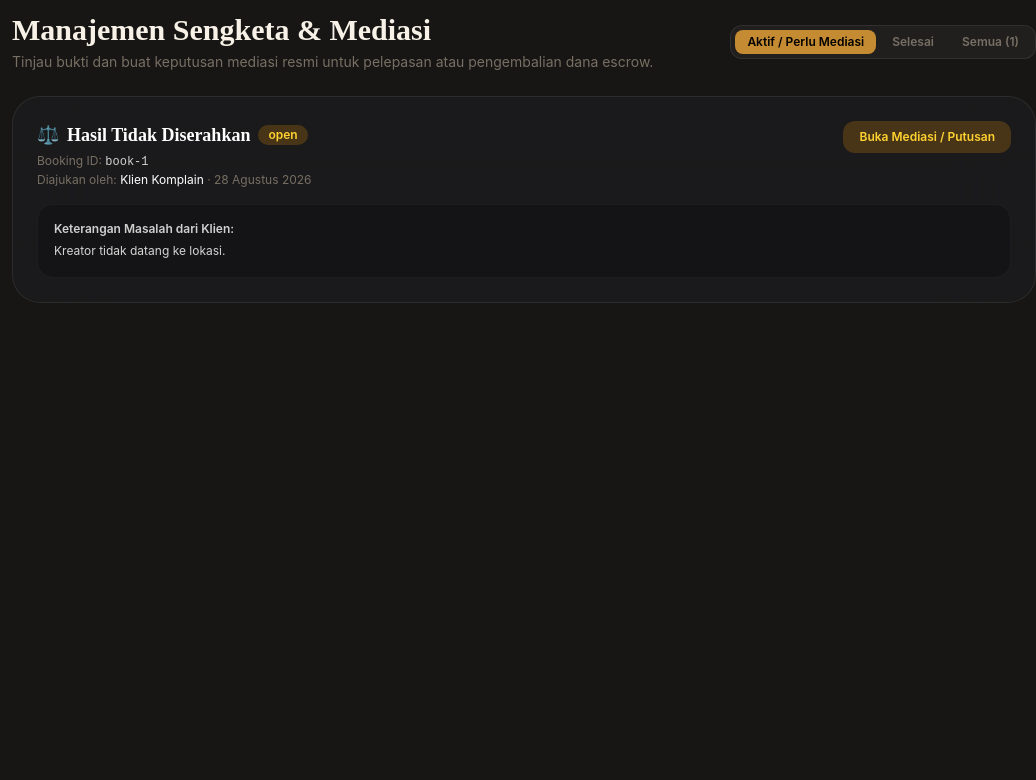
Test case: AdminDisputesPage › renders disputes and allows admin to resolve dispute
Expected: the heading "Hasil Tidak Diserahkan" is shown, [67,121,250,149]
Click the button "Buka Mediasi / Putusan". click: (927, 137)
box: [844,121,1011,153]
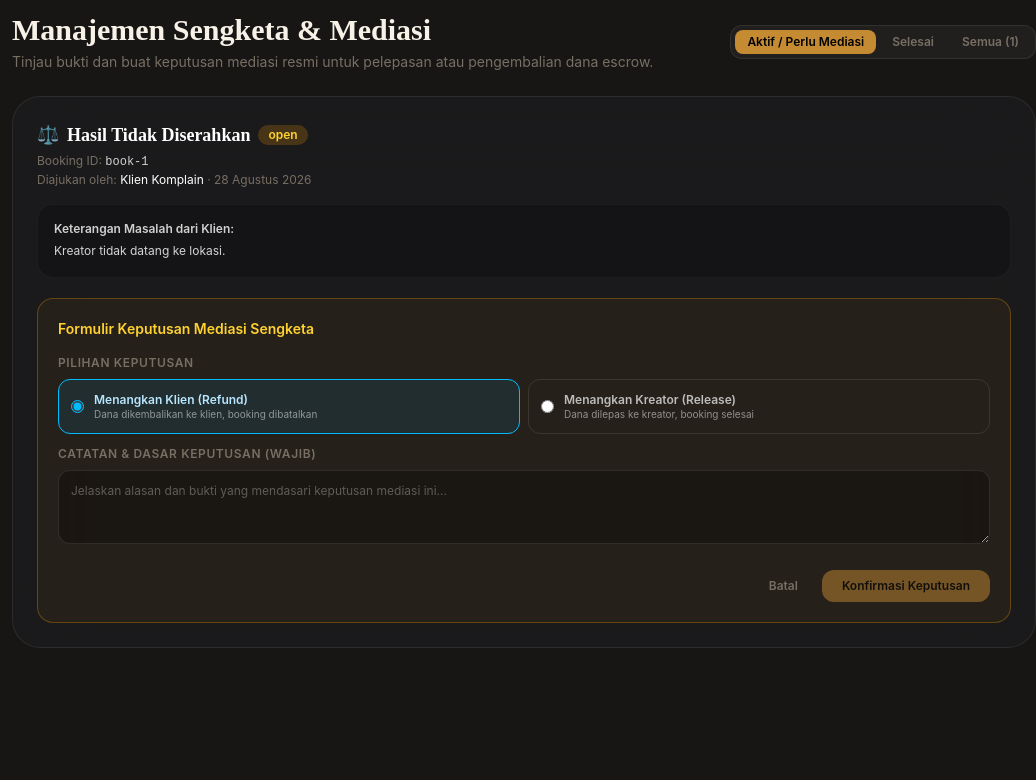
Replace the text in the text box with placeholder "Jelaskan alasan dan bukti" with "Refund disetujui karena kreator terbukti berhalangan.". click: (524, 507)
box: [58,470,990,544]
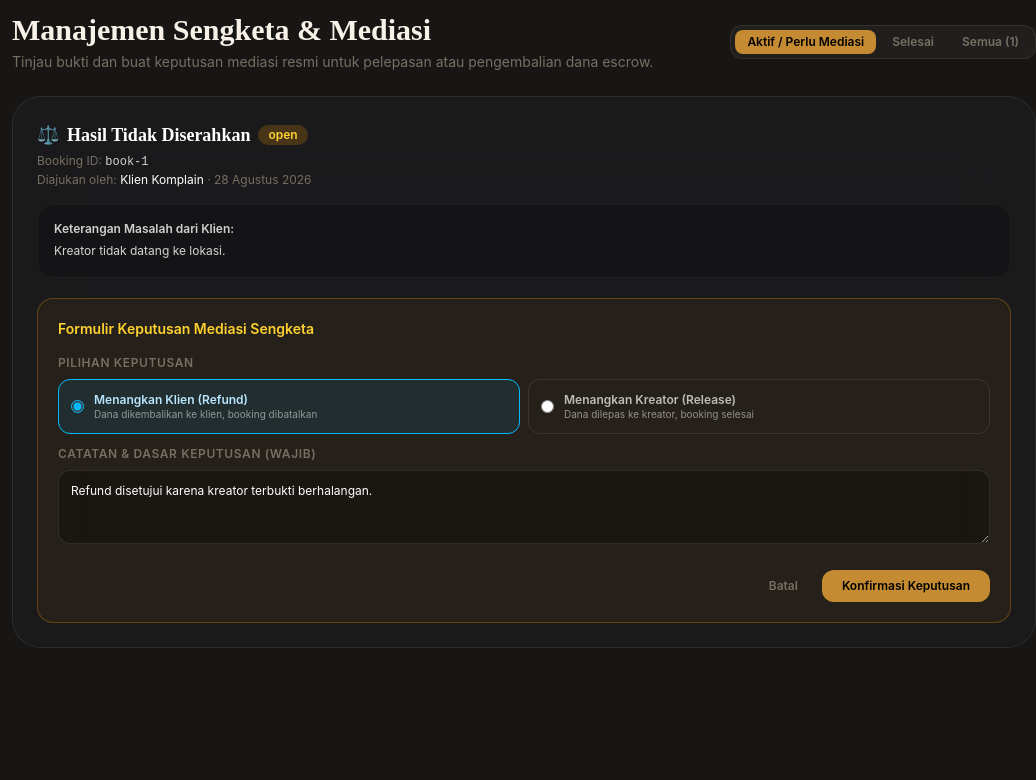
Click the button "Konfirmasi Keputusan". click: (906, 586)
box: [822,570,990,602]
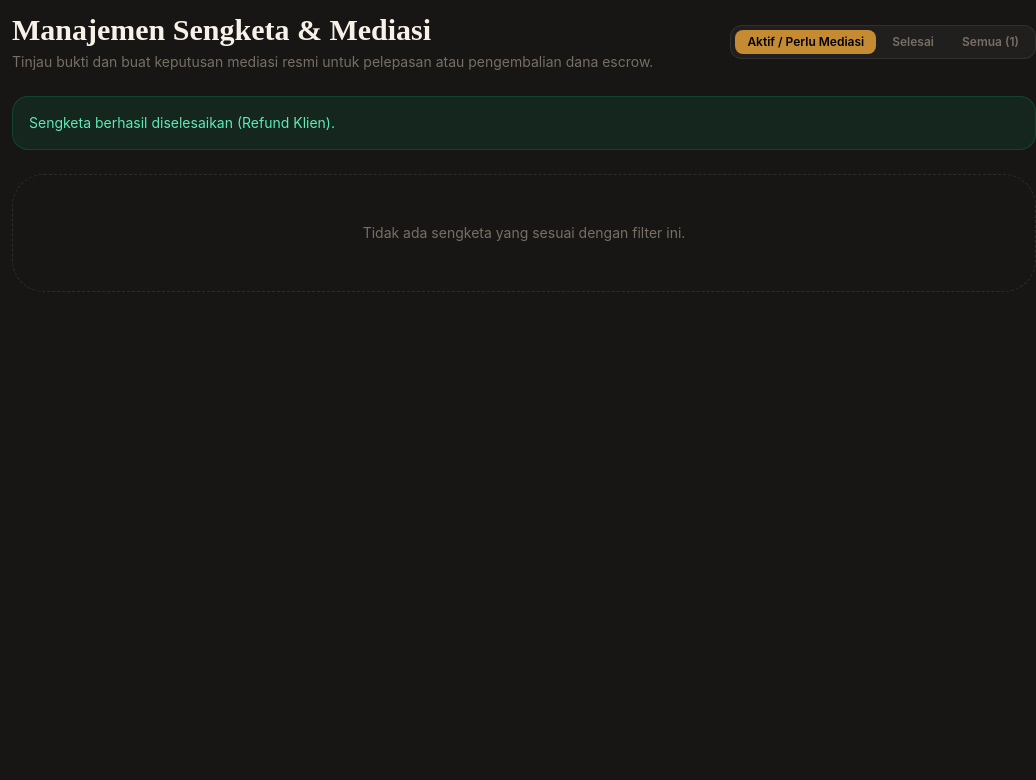
Result: the text "Sengketa berhasil diselesaikan (Refund Klien)." is shown at [12,96,1035,150]
